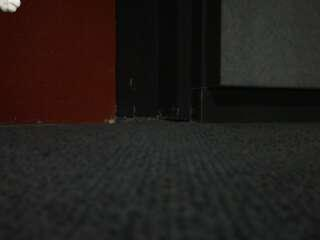Garlic: (0, 0, 22, 12)
